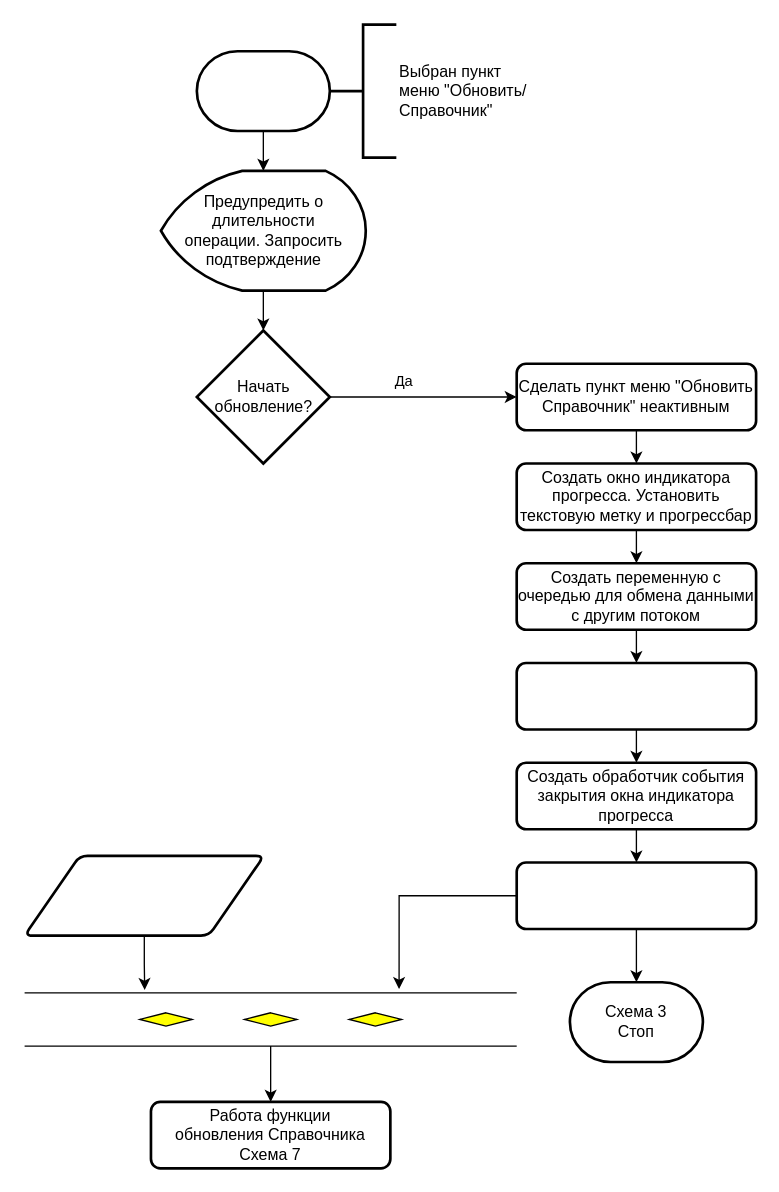
The diagram is 779 pixels wide and 1192 high, and some of its shapes have lost their labels. The box of each missing label's shape, as (x1, y1, x2, y2) in pixels:
Запустить фоновый поток с функцией обновления справочника: (515, 861, 757, 930)
Создать обработчик события изменения окна индикатора прогресса: (515, 661, 757, 730)
Схема 3 Старт: (195, 49, 331, 132)
Флаг останова потока: (23, 854, 265, 936)
